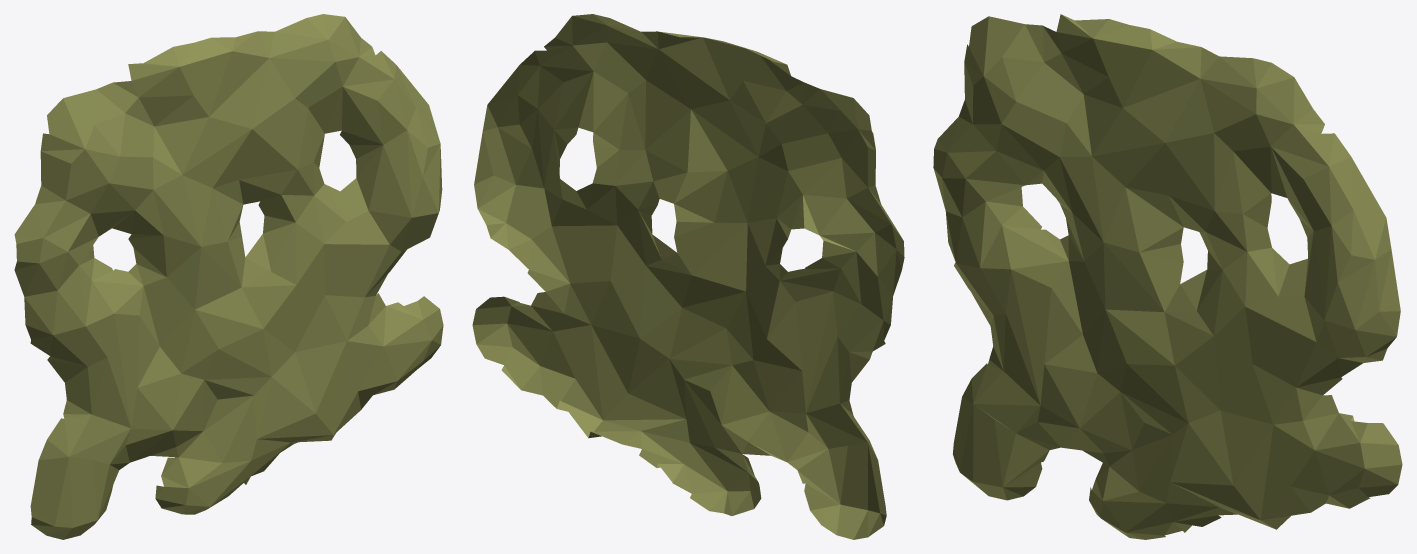
The model's file is greek_vines_1.fbx.
3 renders of one model, left to right at view 1: azimuth 30°, elevation 25°; view 2: azimuth 150°, elevation 25°; view 3: azimuth 330°, elevation 25°, orthographic. The views are drawn at different scales.
Parts seen in each view (by area): view 1: Mball.029; view 2: Mball.029; view 3: Mball.029.
Part boxes in pixels (x1,y1,x2,y2): Mball.029: (14,14,443,539); Mball.029: (472,14,904,539); Mball.029: (933,14,1402,539).
Bounding box in the file's own units: 281 × 296 × 23.92.
